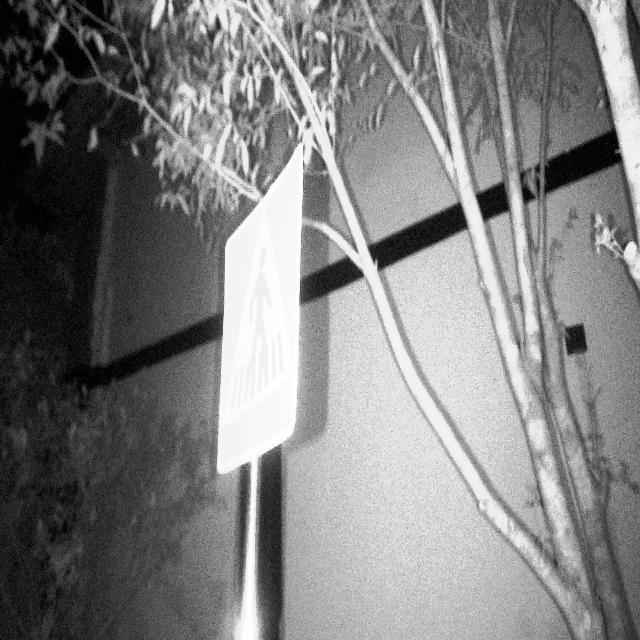Sign: (216, 142, 306, 477)
Tree: (313, 5, 639, 640)
